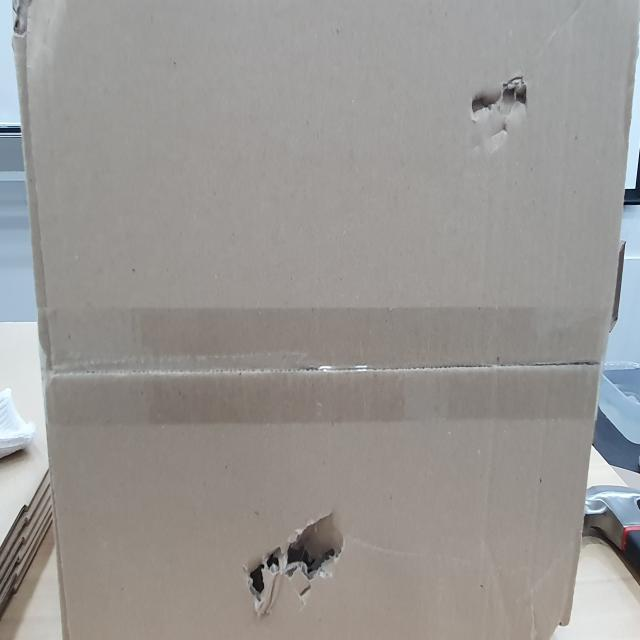hole: (239, 492, 349, 616), (468, 67, 527, 133)
